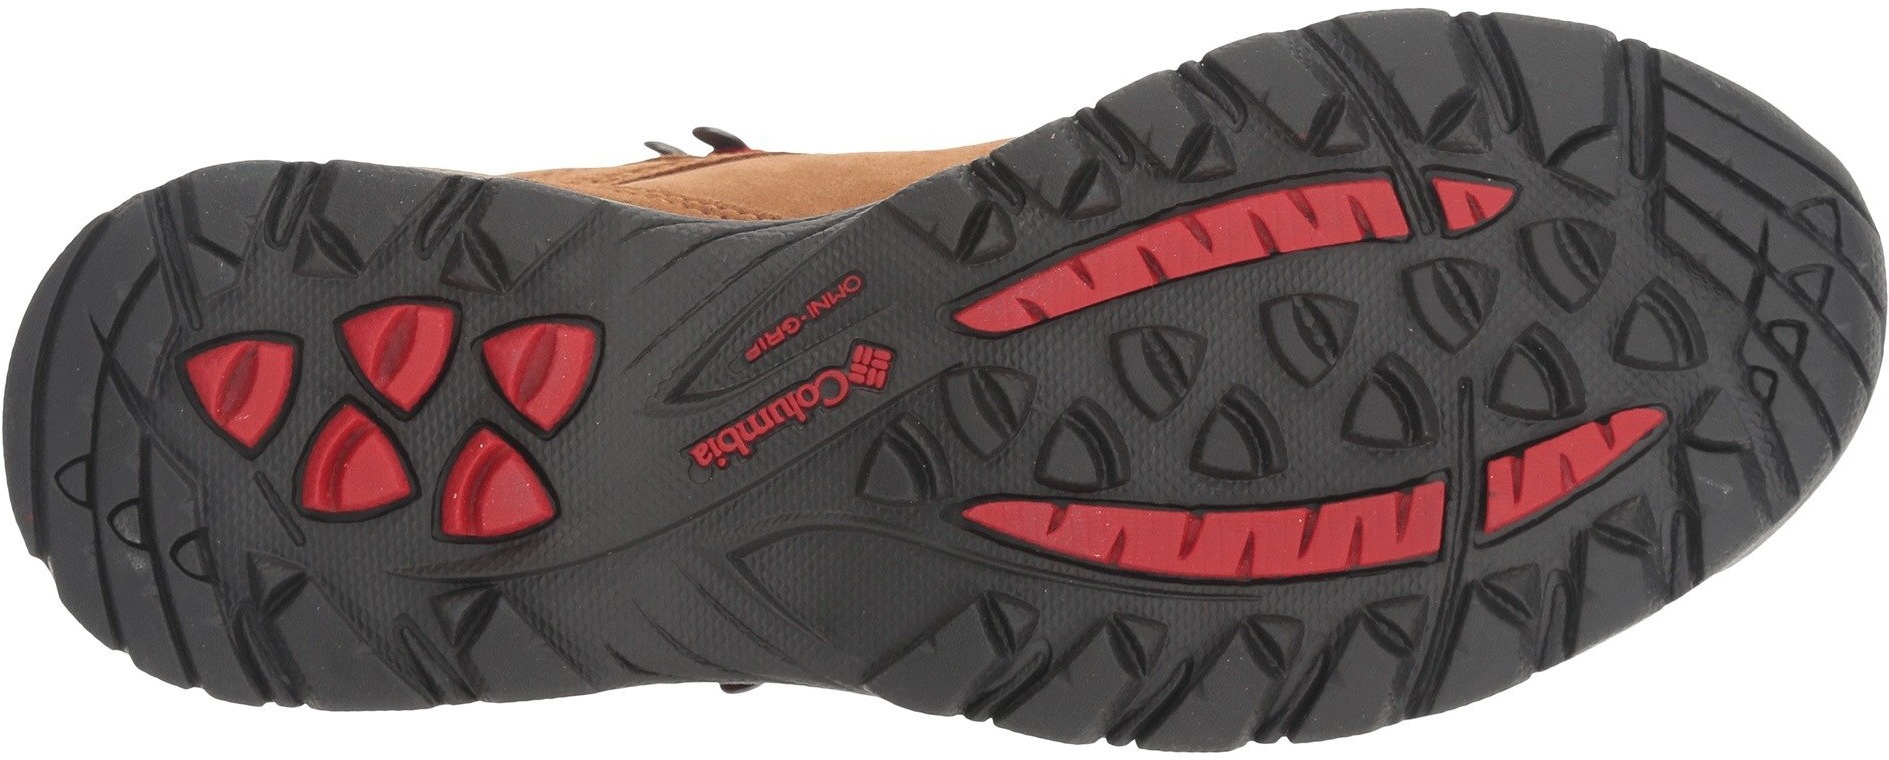exclude: (372, 2, 1087, 236), (669, 681, 831, 758)
other: (667, 505, 851, 674)
quad: (1284, 31, 1495, 225), (34, 395, 201, 568), (1164, 594, 1317, 736), (1419, 542, 1550, 673)
text: (683, 401, 772, 484), (761, 358, 849, 441)
triangle: (296, 271, 606, 559), (1481, 206, 1711, 429), (167, 323, 305, 463), (1024, 387, 1141, 495), (1250, 284, 1365, 394)
